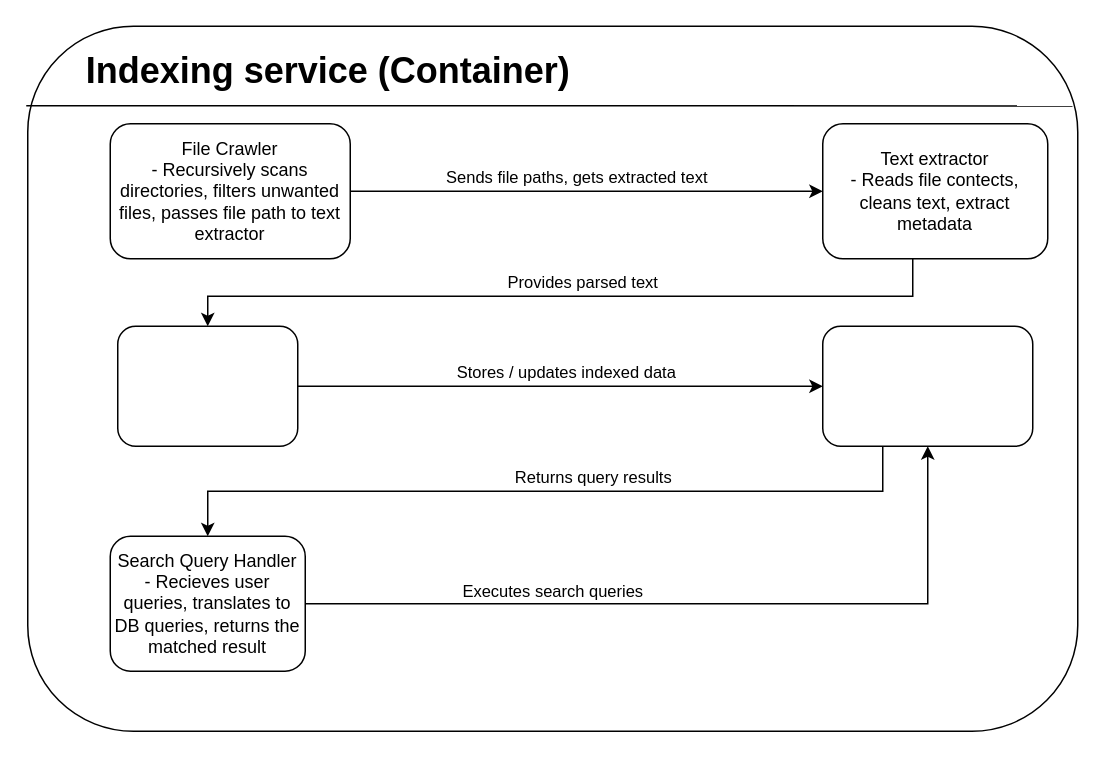
Some shapes in this 1104 by 758 pixel diagram are drawn without their labels. Here are the shapes that lost their labels. From the top down, the box of each, then its label:
(116, 325, 298, 446): Indexer - Contains central logic, coordinates data flow
(821, 325, 1033, 446): Database Adapter - Executes SQL, provides interface to DB
